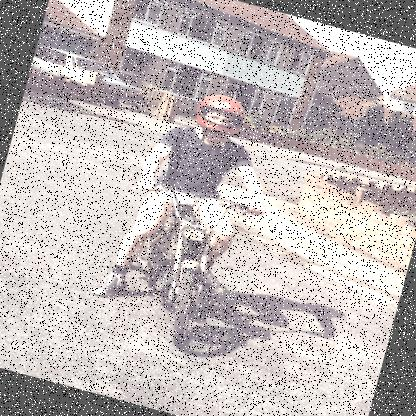Car: (29, 38, 147, 107)
